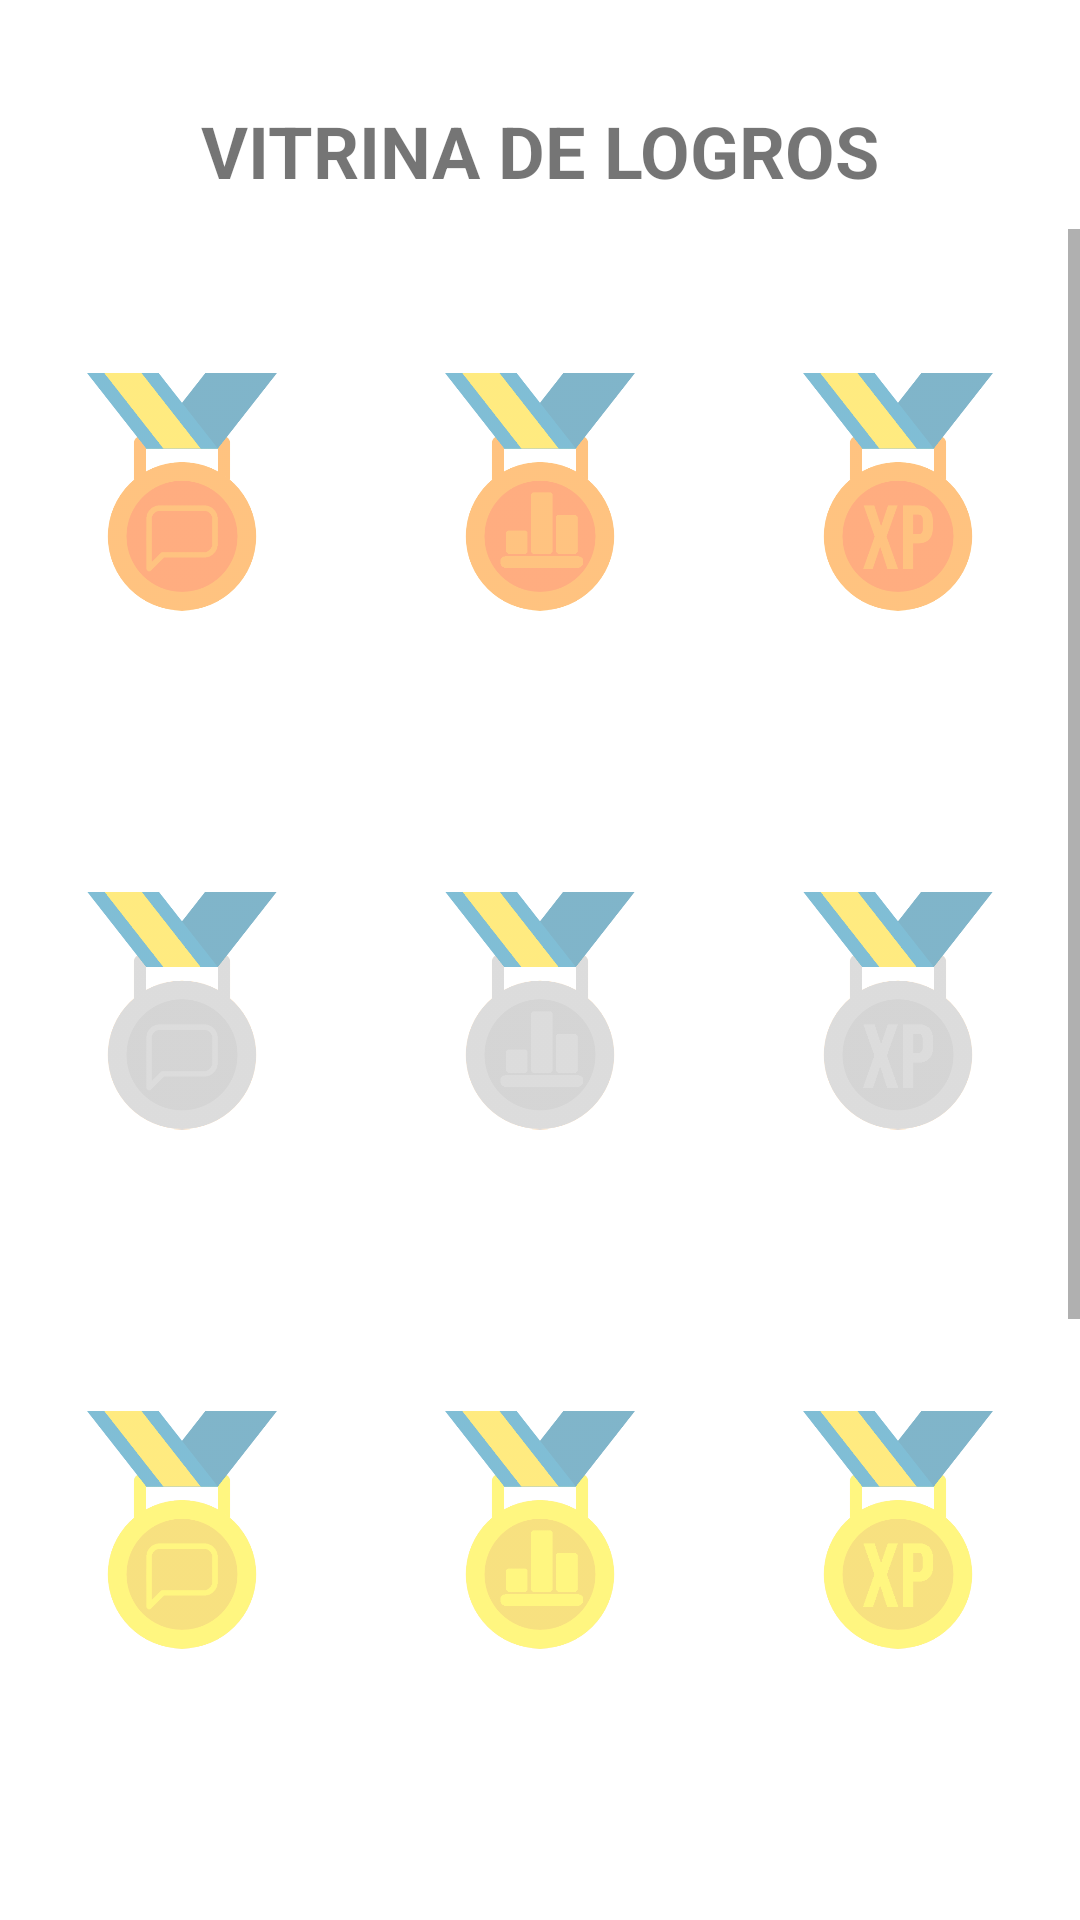

Named icons in this screenshot (1080x1920) and their centers, (x,y):
medalla bronce ch: (182,492)
medalla bronce es: (540,492)
medalla bronce xp: (898,492)
medalla oro ch: (182,1530)
medalla oro es: (540,1530)
medalla oro xp: (898,1530)
medalla plata ch: (182,1011)
medalla plata es: (540,1011)
medalla plata xp: (898,1011)
